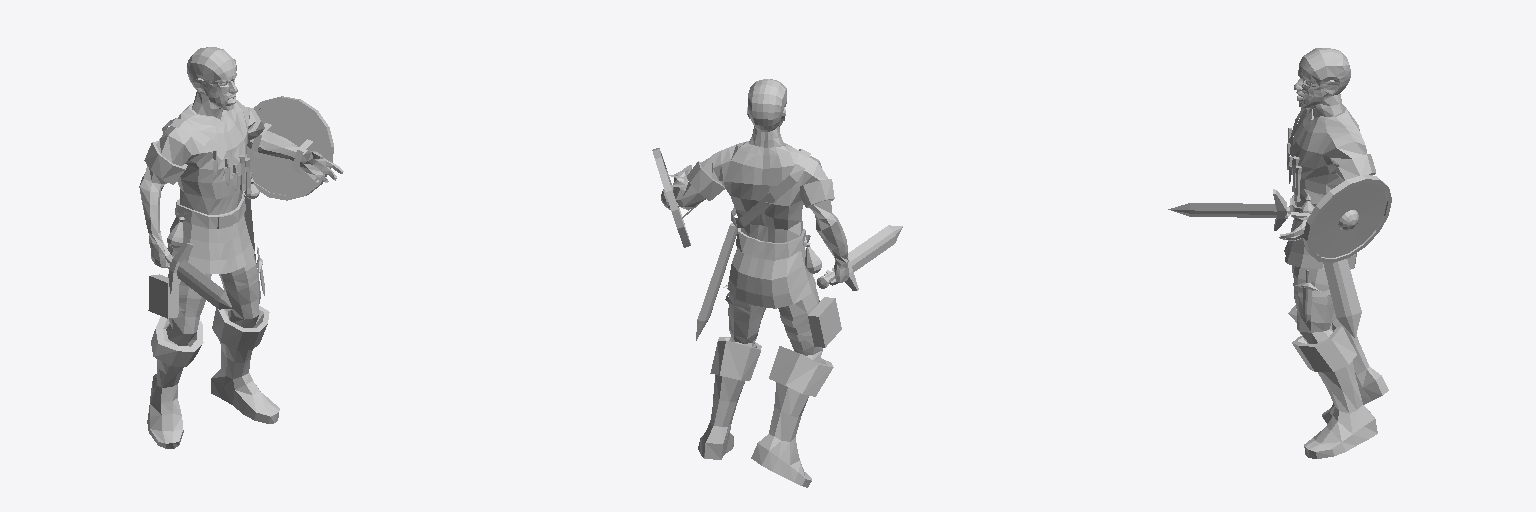
File: char_anim_000257.obj
The picture shows the model from 3 angles: view 1: azimuth 30°, elevation 25°; view 2: azimuth 150°, elevation 25°; view 3: azimuth 270°, elevation 25°; orthographic projection.
Parts seen in each view (by area): view 1: Body.001, Shield, Sword, Funda.001_LegBag, Bandolera; view 2: Body.001, Funda.001_LegBag, Sword, Sheat, Bandolera, Shield; view 3: Body.001, Shield, Sword, Sheat, LegKnife.
Boxes of the visible parts, x1,y1,x2,y2 form: Body.001: [139, 47, 343, 448]; Shield: [247, 96, 333, 200]; Sword: [169, 243, 232, 309]; Funda.001_LegBag: [148, 274, 205, 318]; Bandolera: [162, 118, 252, 180]; Body.001: [673, 79, 848, 487]; Funda.001_LegBag: [780, 297, 841, 347]; Sword: [817, 225, 902, 290]; Sheat: [696, 223, 737, 340]; Bandolera: [731, 149, 810, 227]; Shield: [652, 148, 699, 247]; Body.001: [1279, 48, 1388, 458]; Shield: [1303, 175, 1391, 262]; Sword: [1168, 189, 1290, 230]; Sheat: [1323, 259, 1361, 337]; LegKnife: [1293, 270, 1330, 322].
Size of the model in its own units: 1.19 by 2.38 by 1.24.